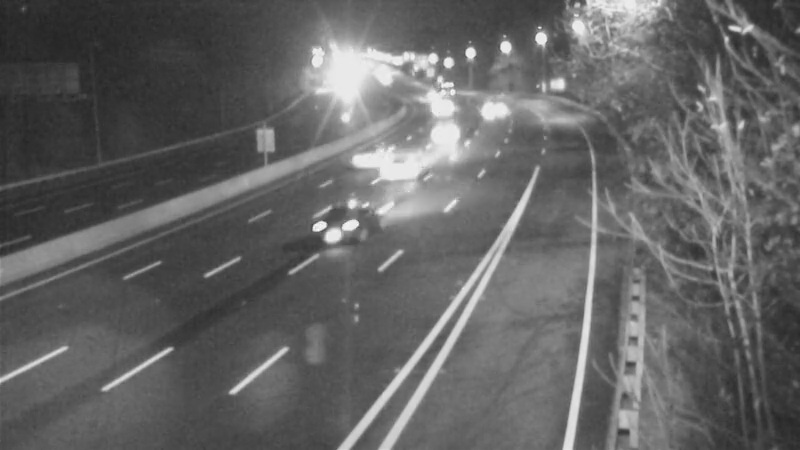vehicle: (330, 115, 410, 195), (371, 127, 451, 207), (297, 187, 377, 267), (423, 65, 473, 115), (408, 73, 458, 123), (416, 83, 466, 133), (469, 86, 519, 136), (421, 104, 471, 154)
